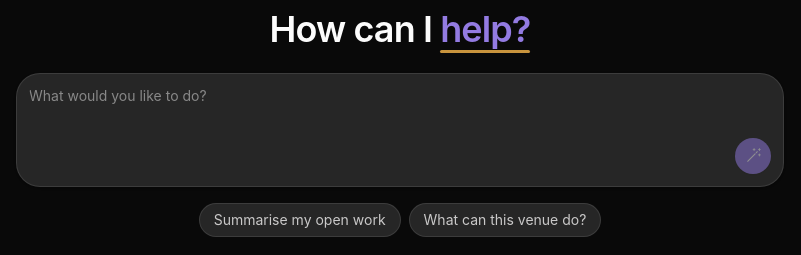
Scenario: AIPrompt — starter prompts › fills the composer from a starter chip without sending
Click the button "What can this venue do?" at (505, 220), box [409, 203, 601, 237]
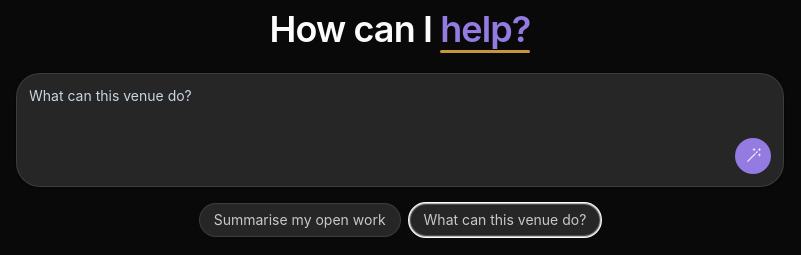
Expected: the text box named "prompt" holds "What can this venue do?", [29, 86, 771, 134]
